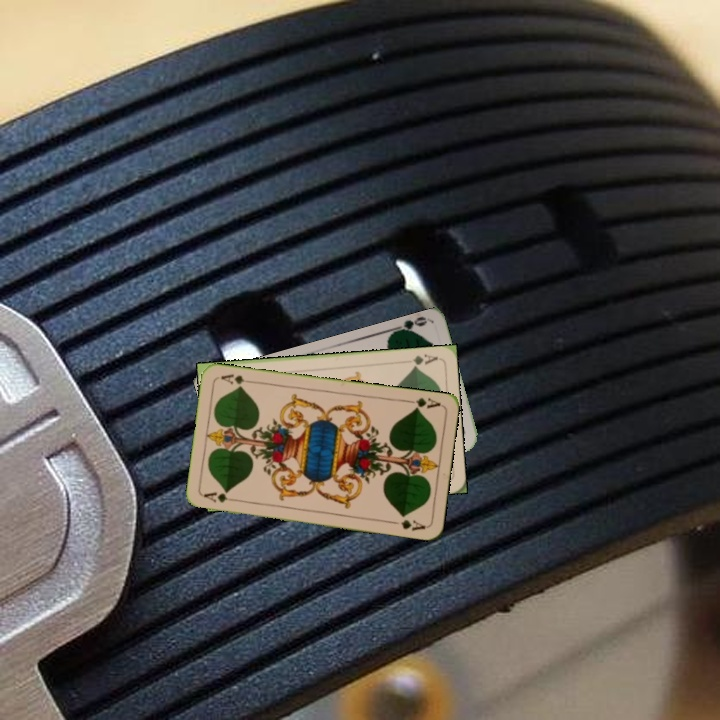GA: (402, 394, 443, 413), (200, 488, 241, 505), (409, 350, 440, 371)
GO: (389, 313, 430, 336)
